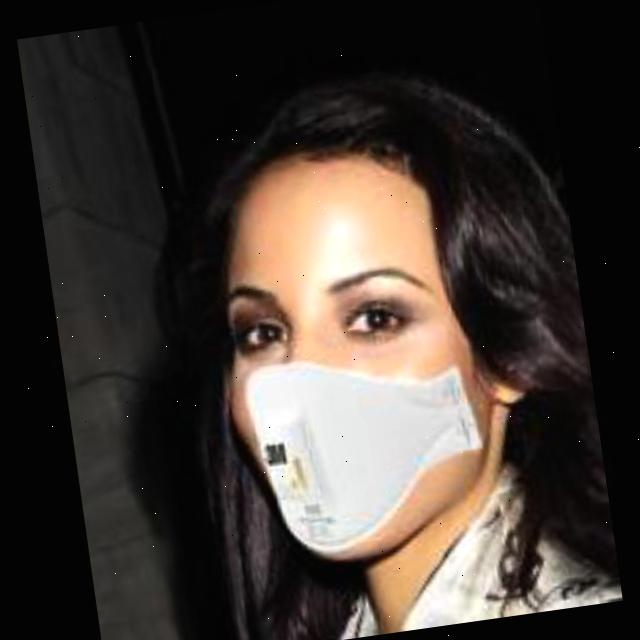suspicion: (146, 101, 531, 598)
